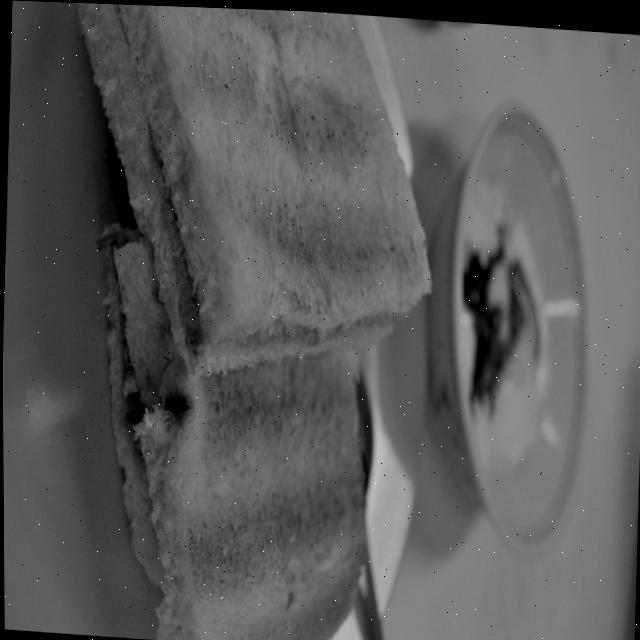面包点心: (32, 1, 460, 640)
